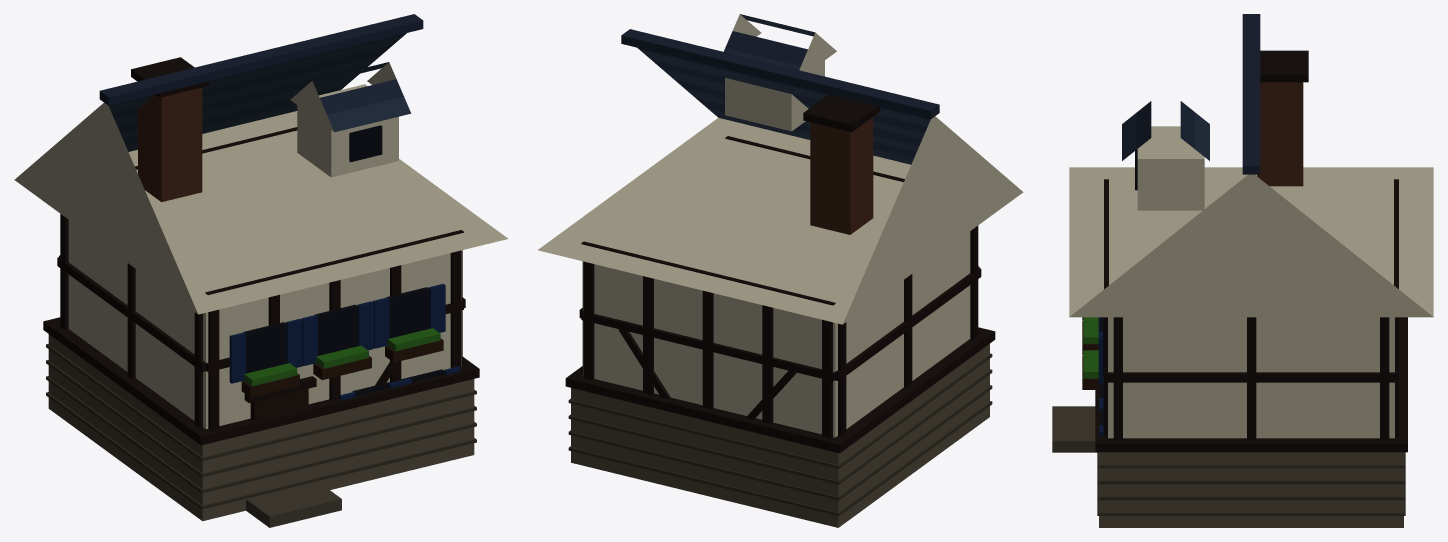
The model's file is valley-house-c.glb.
The picture shows the model from 3 angles, left to right: view 1: azimuth 30°, elevation 25°; view 2: azimuth 150°, elevation 25°; view 3: azimuth 270°, elevation 25°; orthographic projection.
Parts seen in each view (by area): view 1: vh-c; view 2: vh-c; view 3: vh-c.
Boxes of the visible parts, x1,y1,x2,y2 form: vh-c: [14, 14, 508, 527]; vh-c: [538, 14, 1023, 527]; vh-c: [1052, 14, 1433, 527].
Size of the model in its own units: 6.96 by 8.05 by 7.38.
